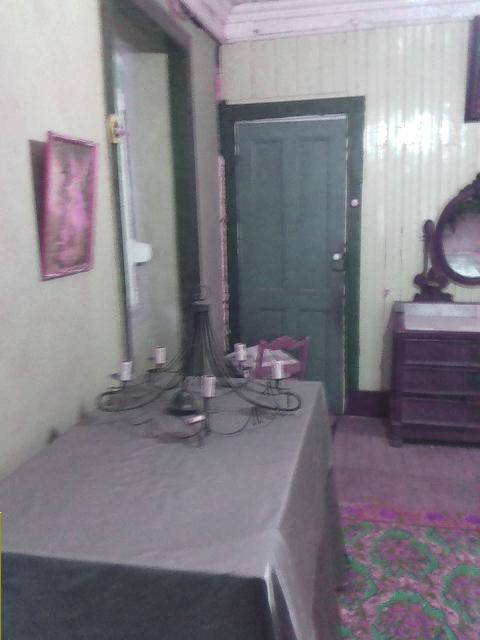closed_door: (217, 94, 362, 417)
